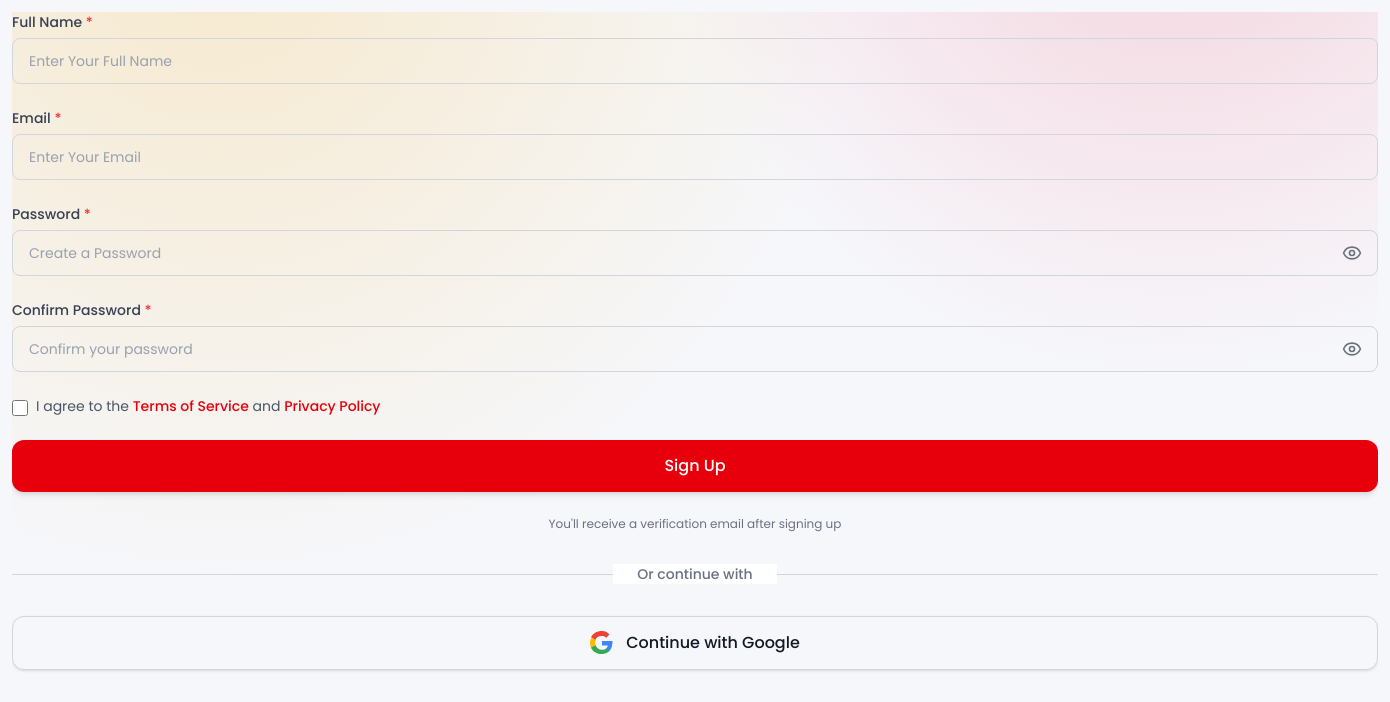
SignupForm › shows success message after successful registration
Type "Test User" into the field with placeholder "Enter Your Full Name".
click(695, 61); type("Test User")  # box [12, 38, 1378, 84]
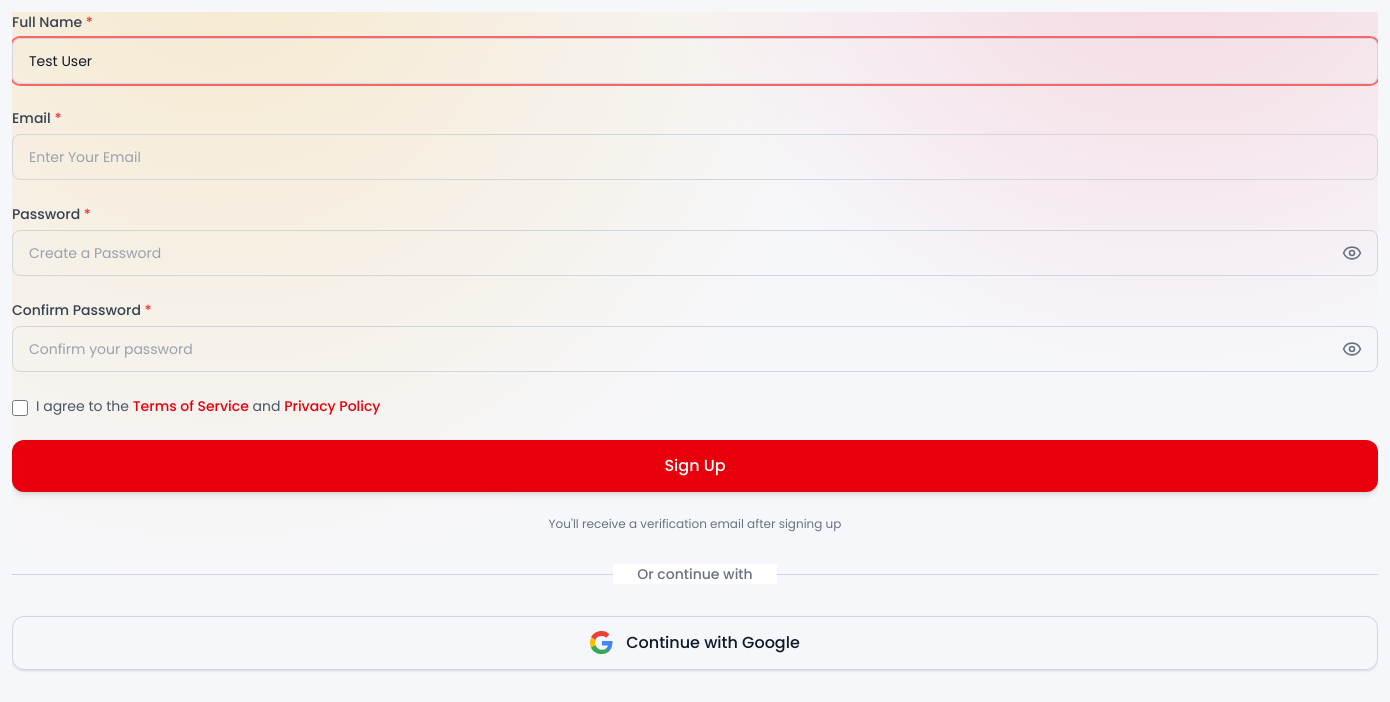
Type "test@test.com" into the field with placeholder "Enter Your Email".
click(695, 157); type("test@test.com")  # box [12, 134, 1378, 180]
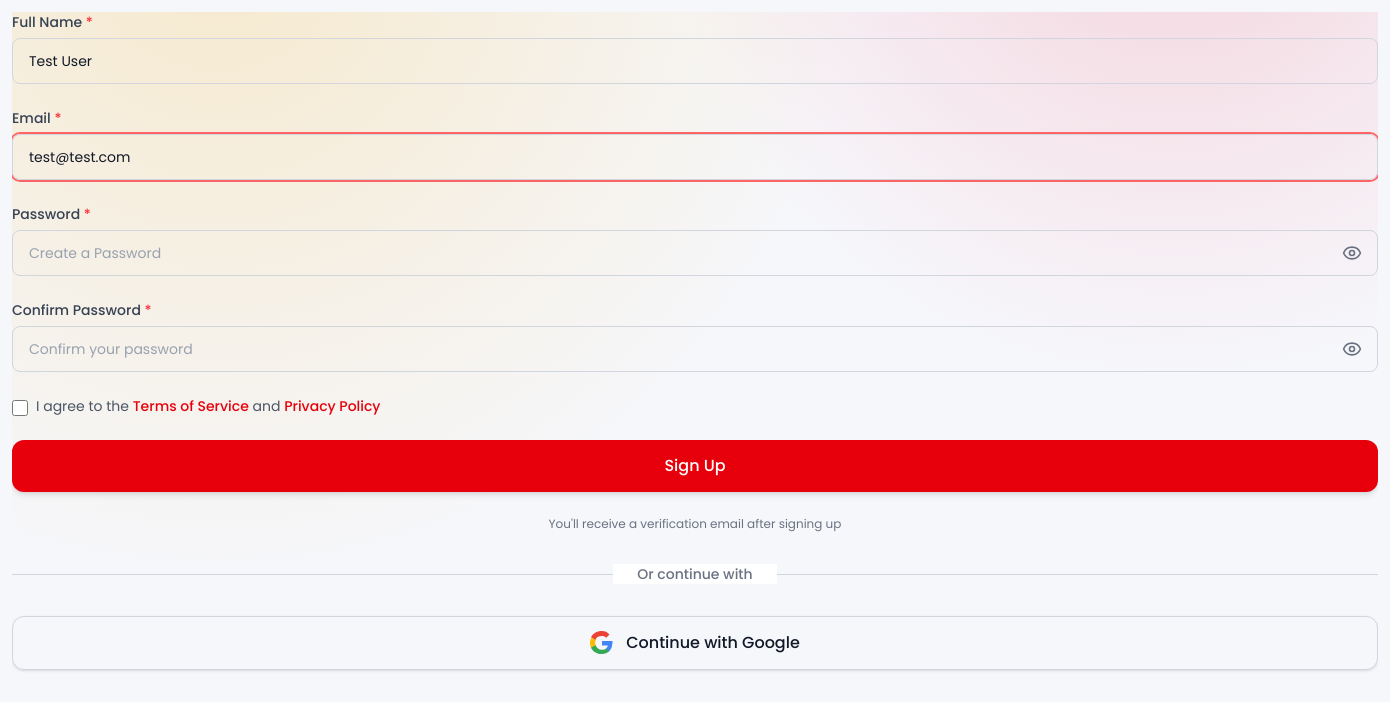
Type "StrongPass1!" into the password field with placeholder "Create a Password".
click(695, 253); type("StrongPass1!")  # box [12, 230, 1378, 276]
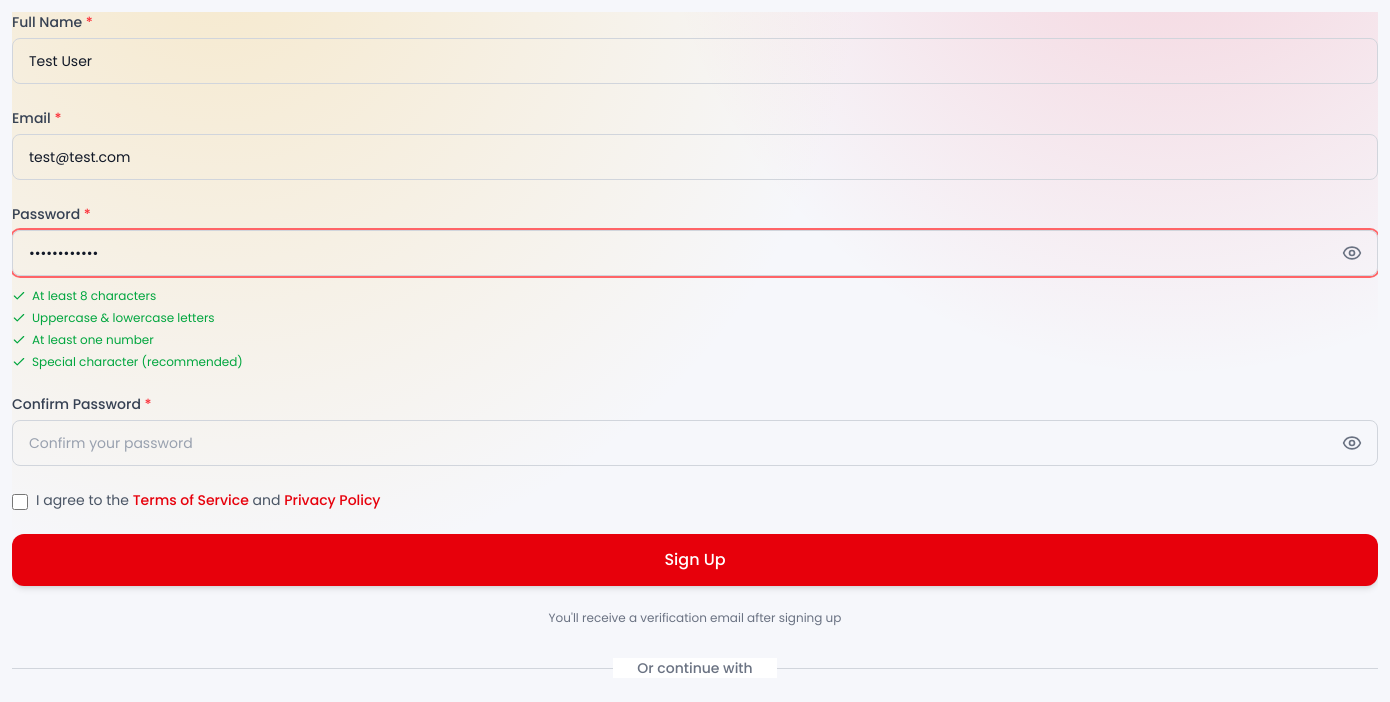
Type "StrongPass1!" into the password field with placeholder "Confirm your password".
click(695, 443); type("StrongPass1!")  # box [12, 420, 1378, 466]
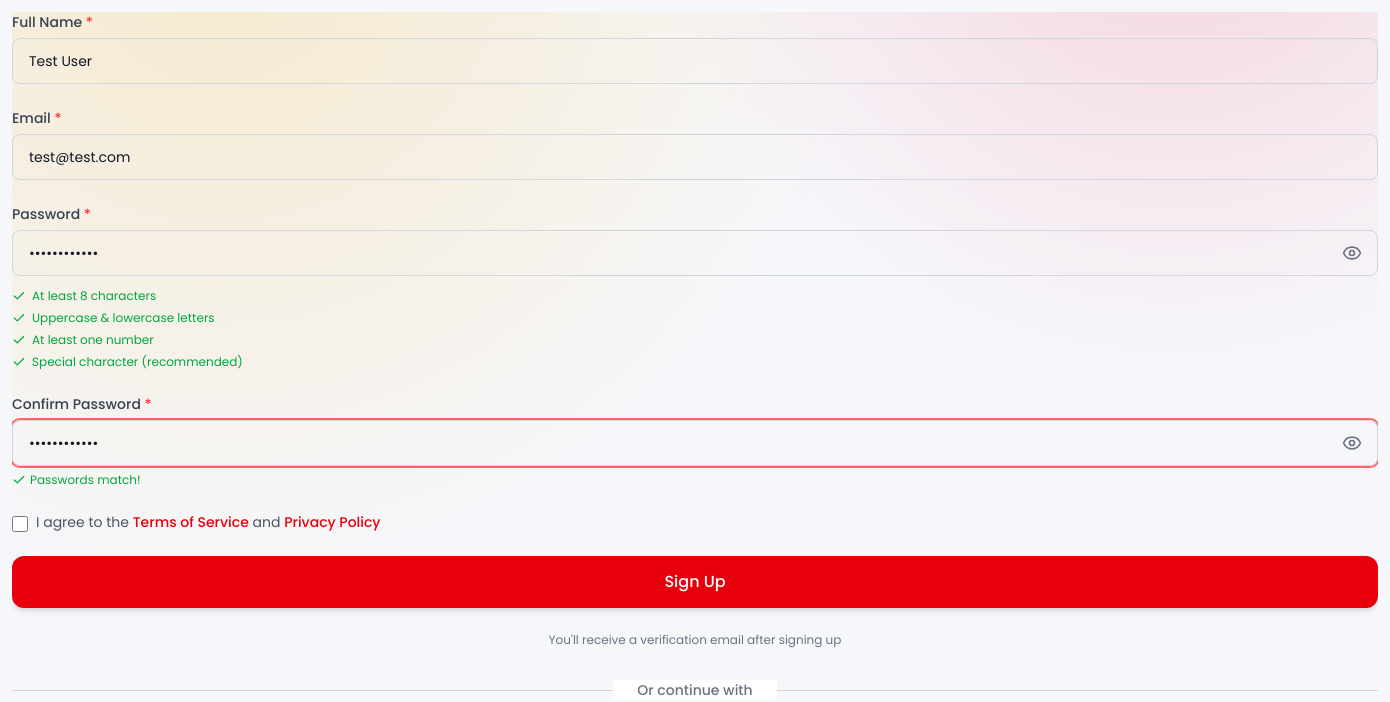
Click the checkbox labelled "I agree to the Terms of Service and Privacy Policy".
click(20, 524)  # box [12, 516, 28, 532]
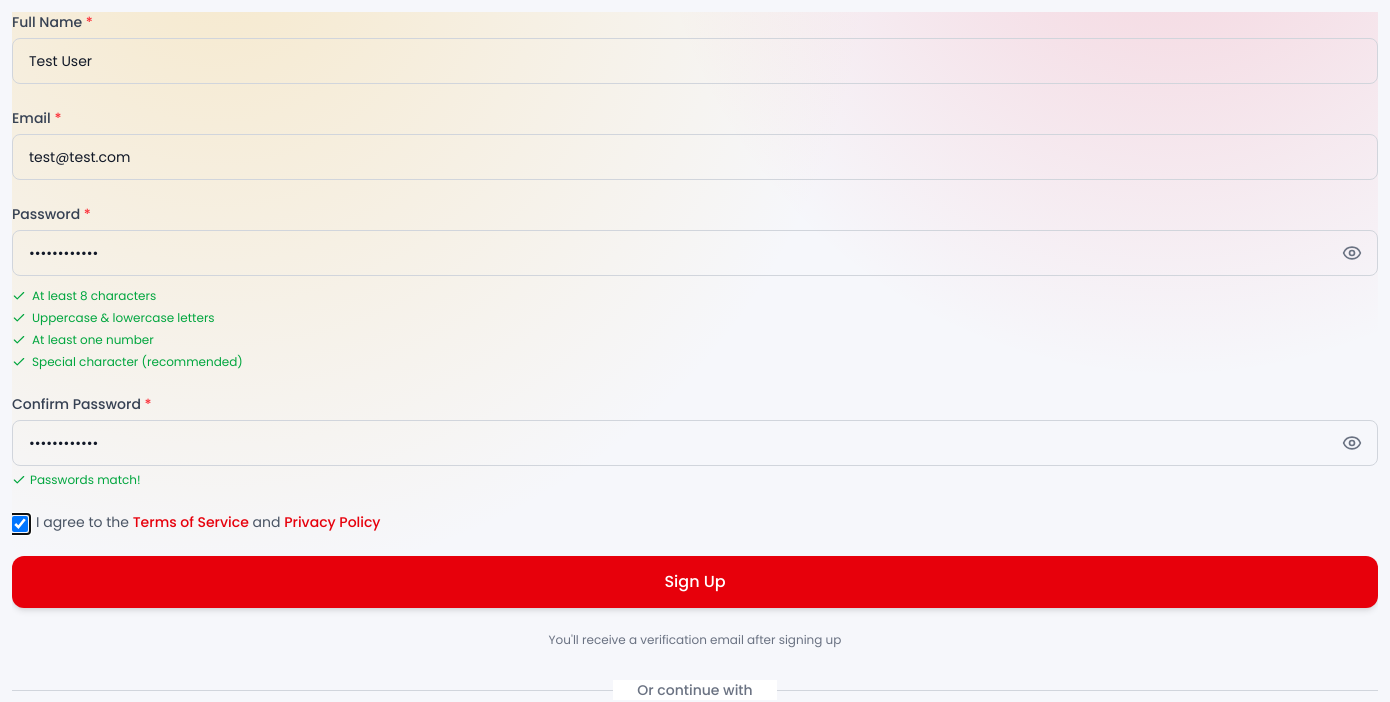
Click the button "Sign Up".
click(695, 582)  # box [12, 556, 1378, 608]
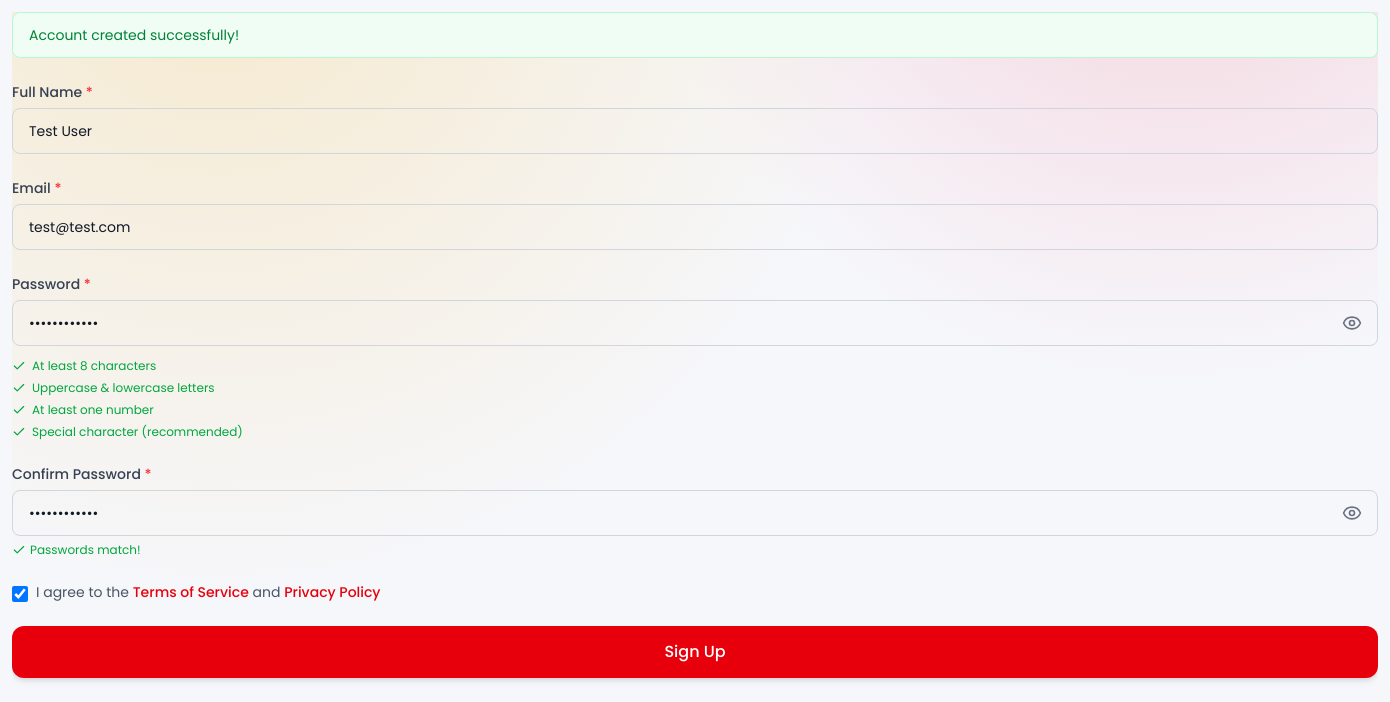
Expected: the text "Account created successfully!" is shown, [12, 12, 1378, 58]
